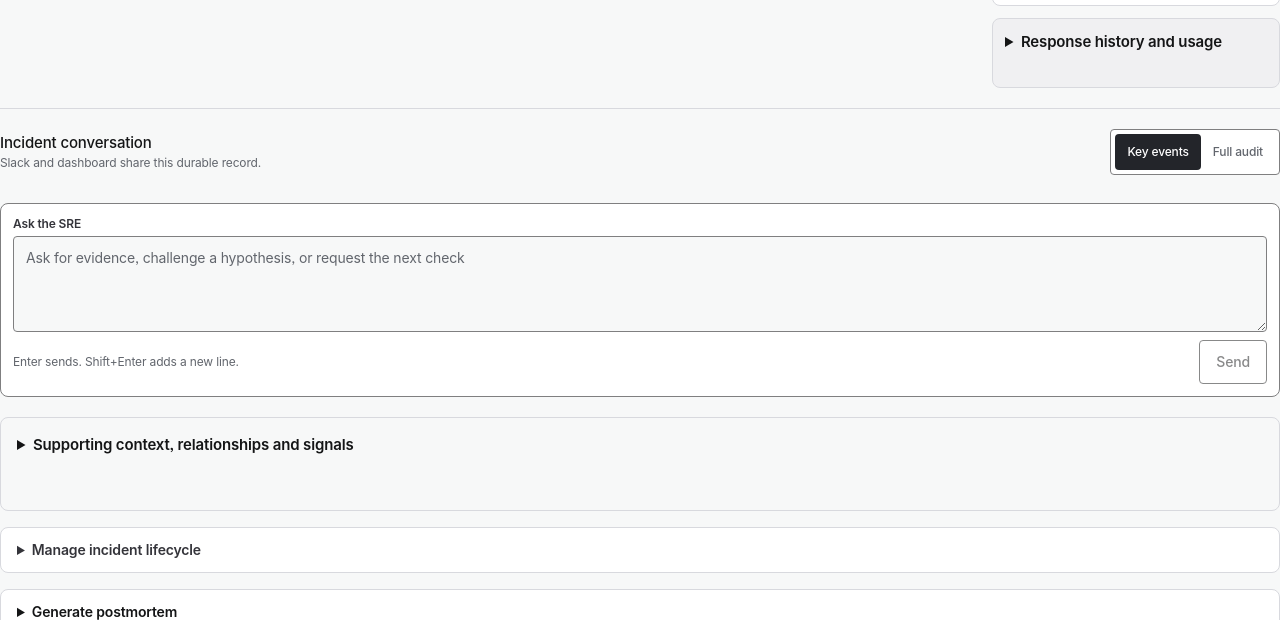
Test: incident-time triage workspace › a citation opens exact evidence explicitly without discarding the draft
(page scrolled)
Step 1. Replace the text in the text box labelled "Ask the SRE" with "Keep this question" → [640, 284], box [13, 236, 1267, 332]
(page scrolled)
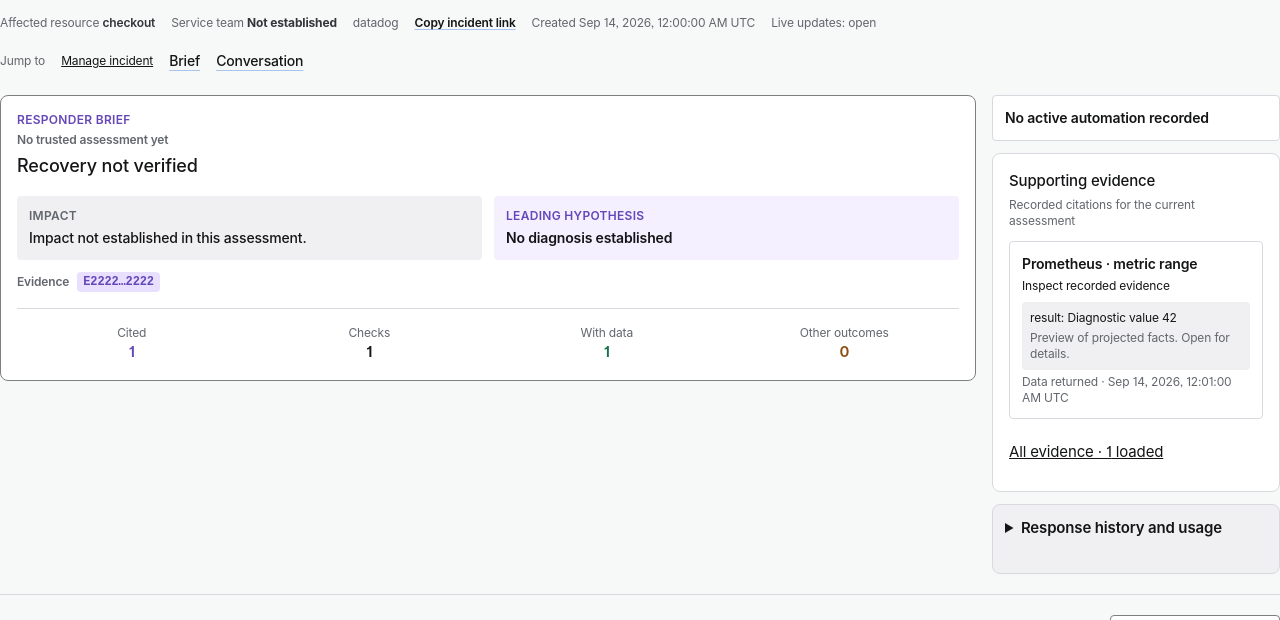
Step 2. Click the link "E2222…2222" → [119, 282], box [77, 272, 160, 292]
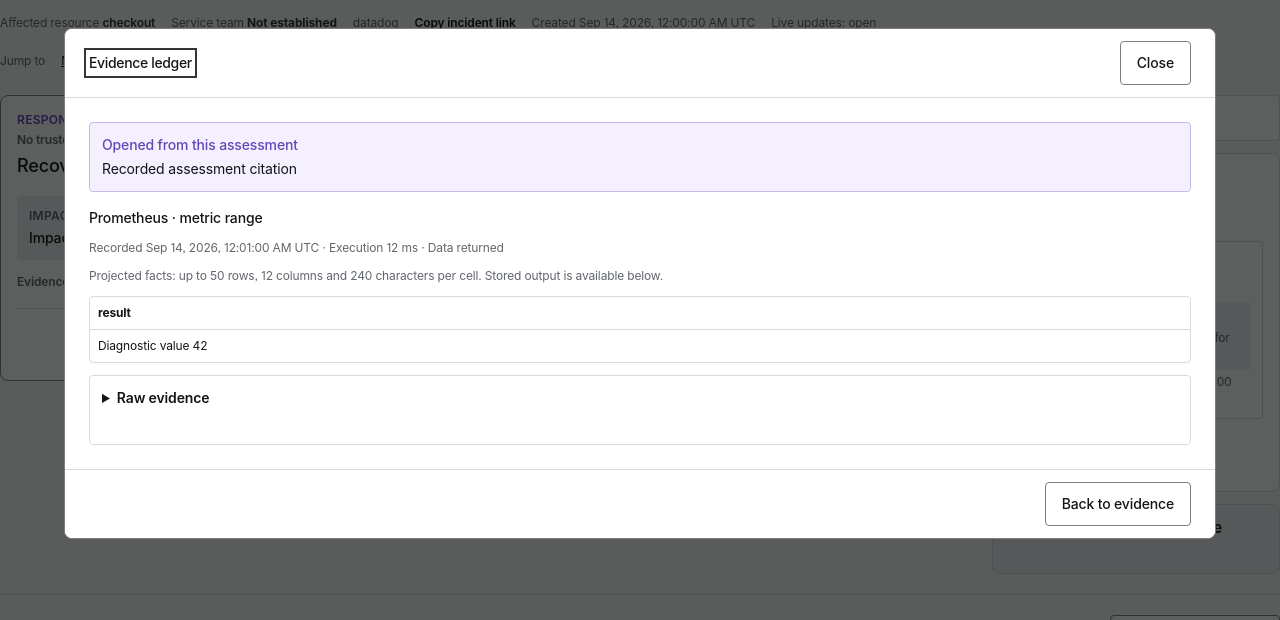
Expected: the text "Diagnostic value 42" is shown, [90, 329, 1190, 362]
Step 3. Click the button "Close" → [1155, 62], box [1120, 40, 1191, 84]
(page scrolled)
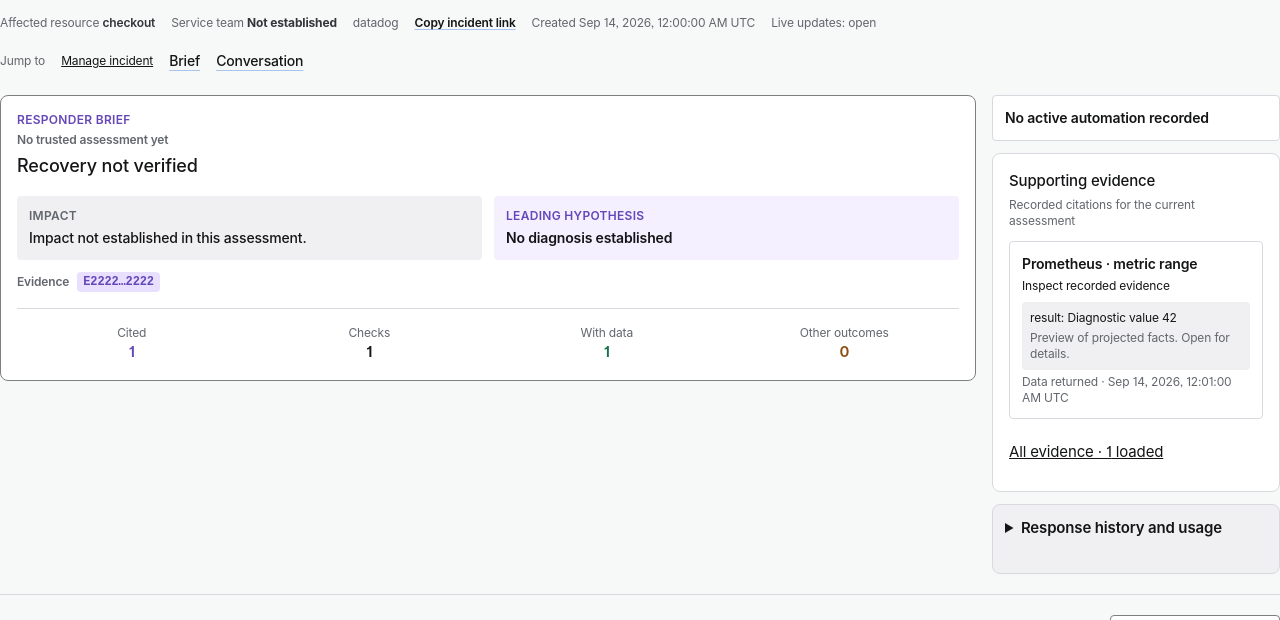
Expected: the dialog is gone
